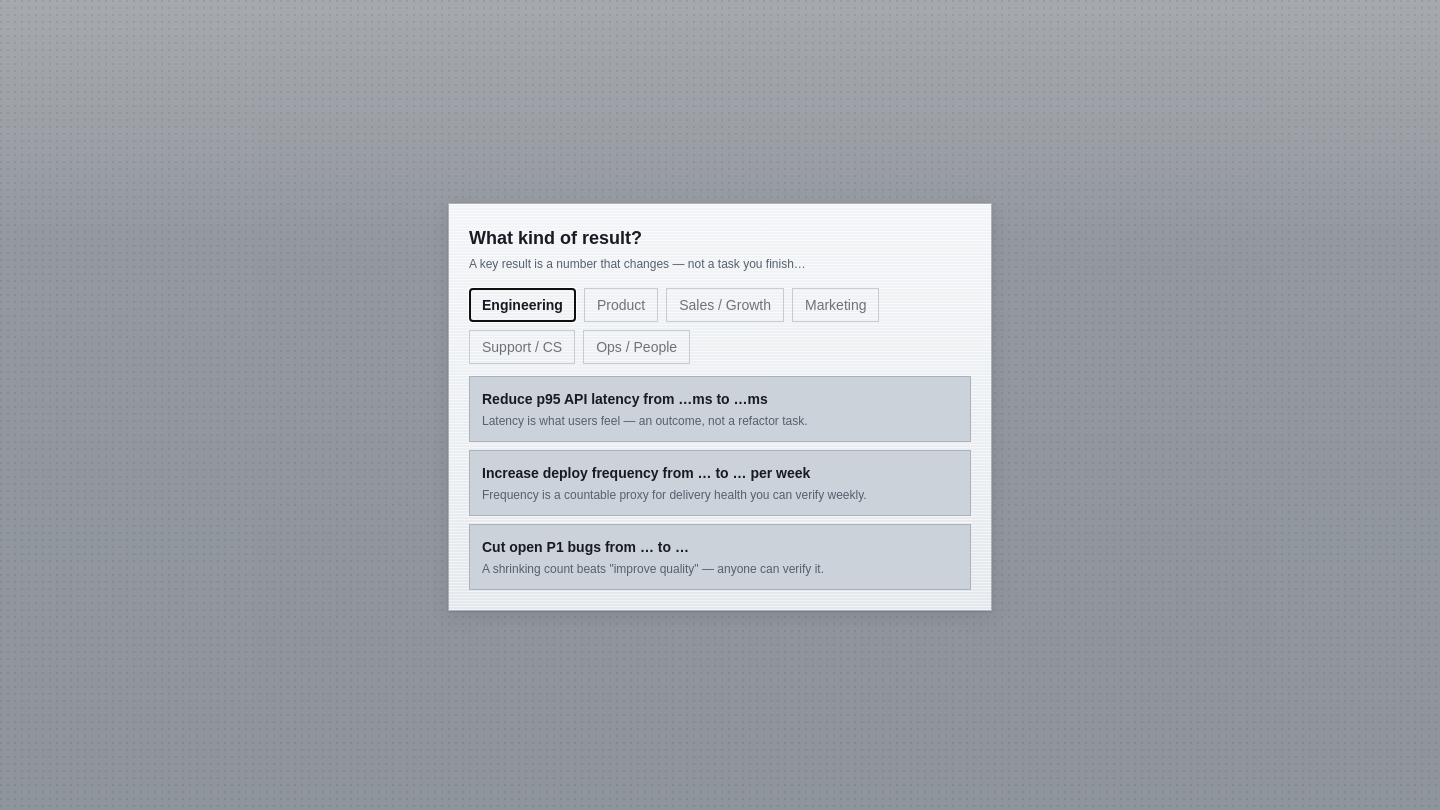
Test: KrWizard › blocks review when baseline equals target
Click the text "Reduce p95 API latency from …ms to …ms" at {"x": 625, "y": 398}, box [482,390,768,406]
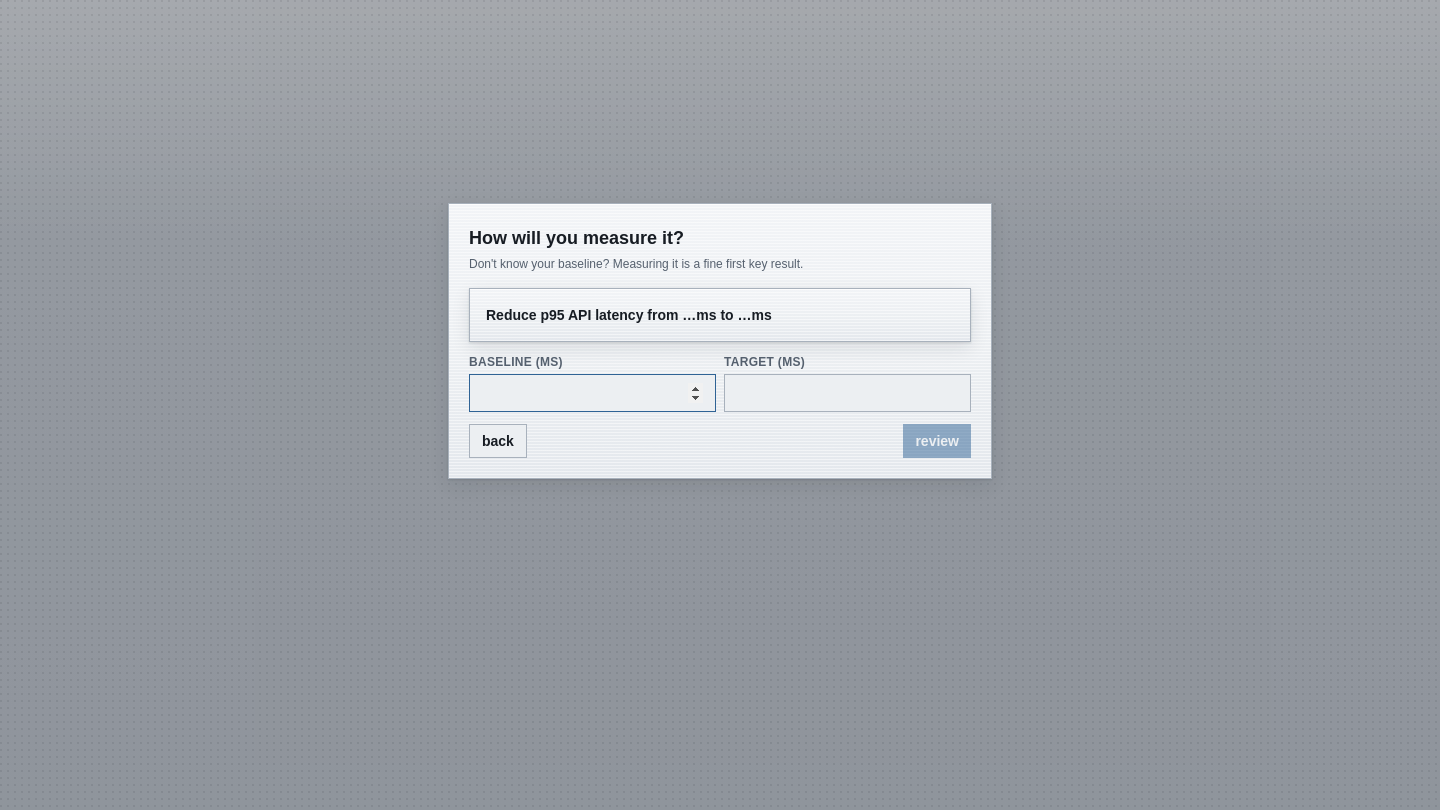
Type "100" into the number field labelled "Baseline (ms)" at {"x": 592, "y": 392}, box [469,374,716,412]
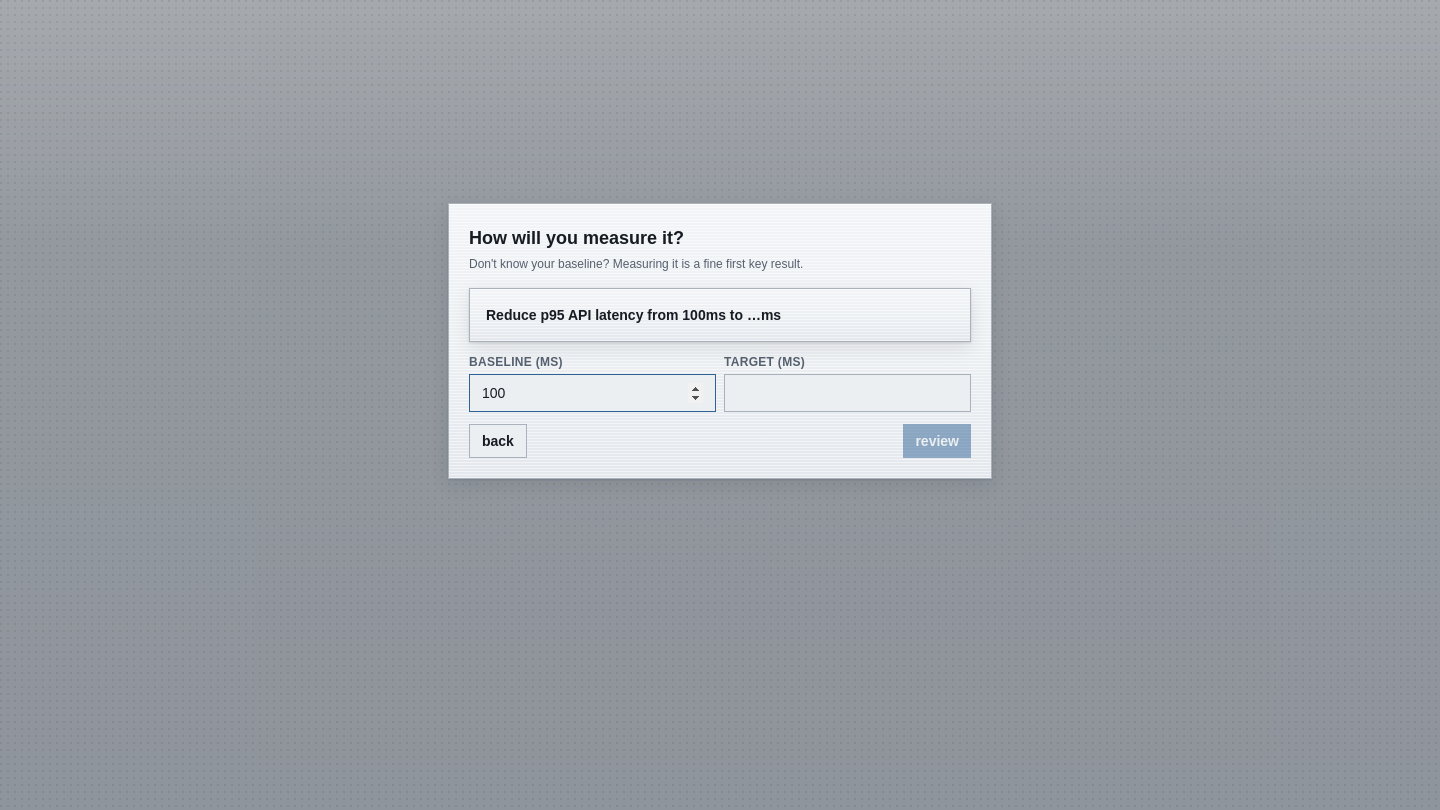
Type "100" into the number field labelled "Target (ms)" at {"x": 848, "y": 392}, box [724,374,971,412]
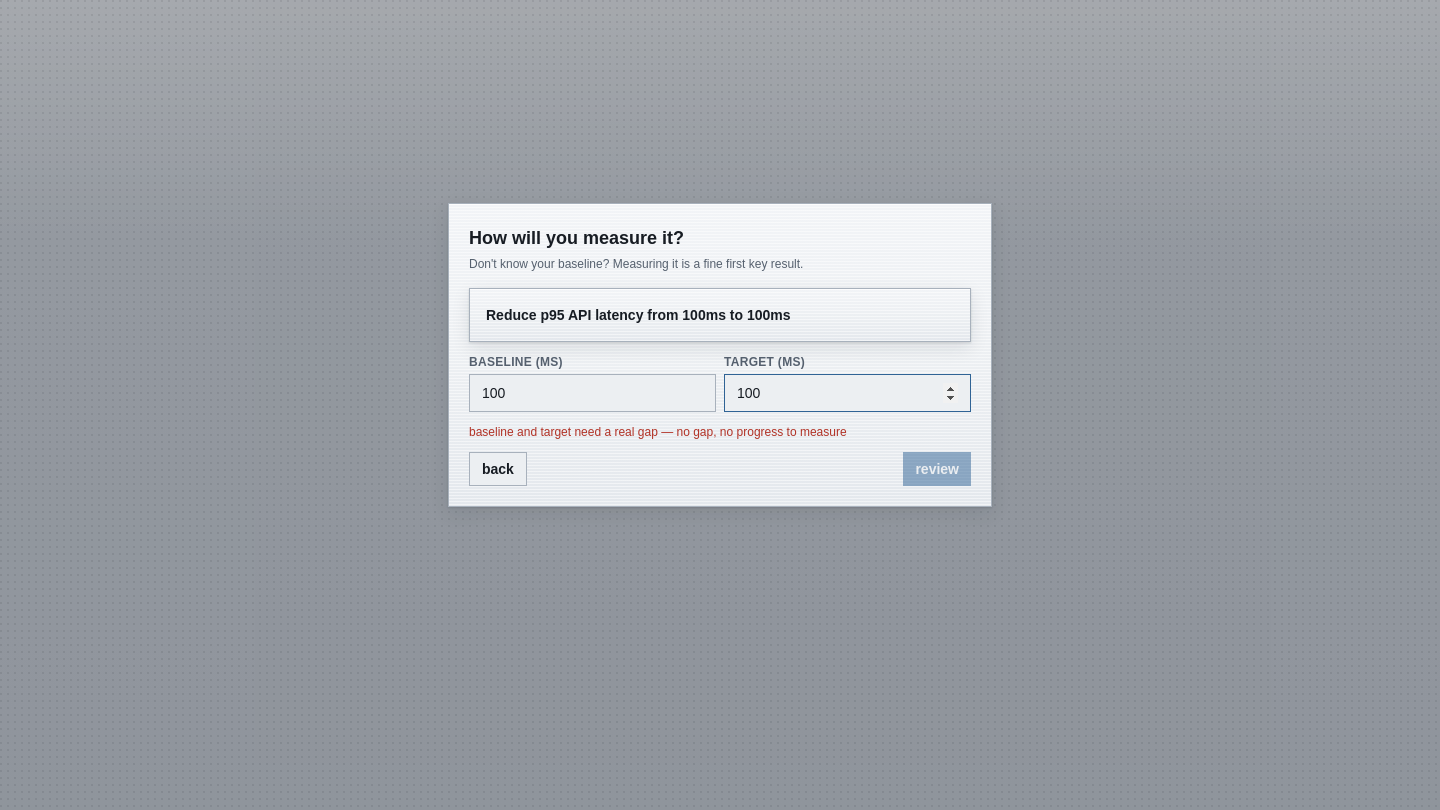
Expected: the button "review" is disabled, [903,452,971,486]
Expected: the text "no gap, no progress" is shown, [469,424,847,438]
